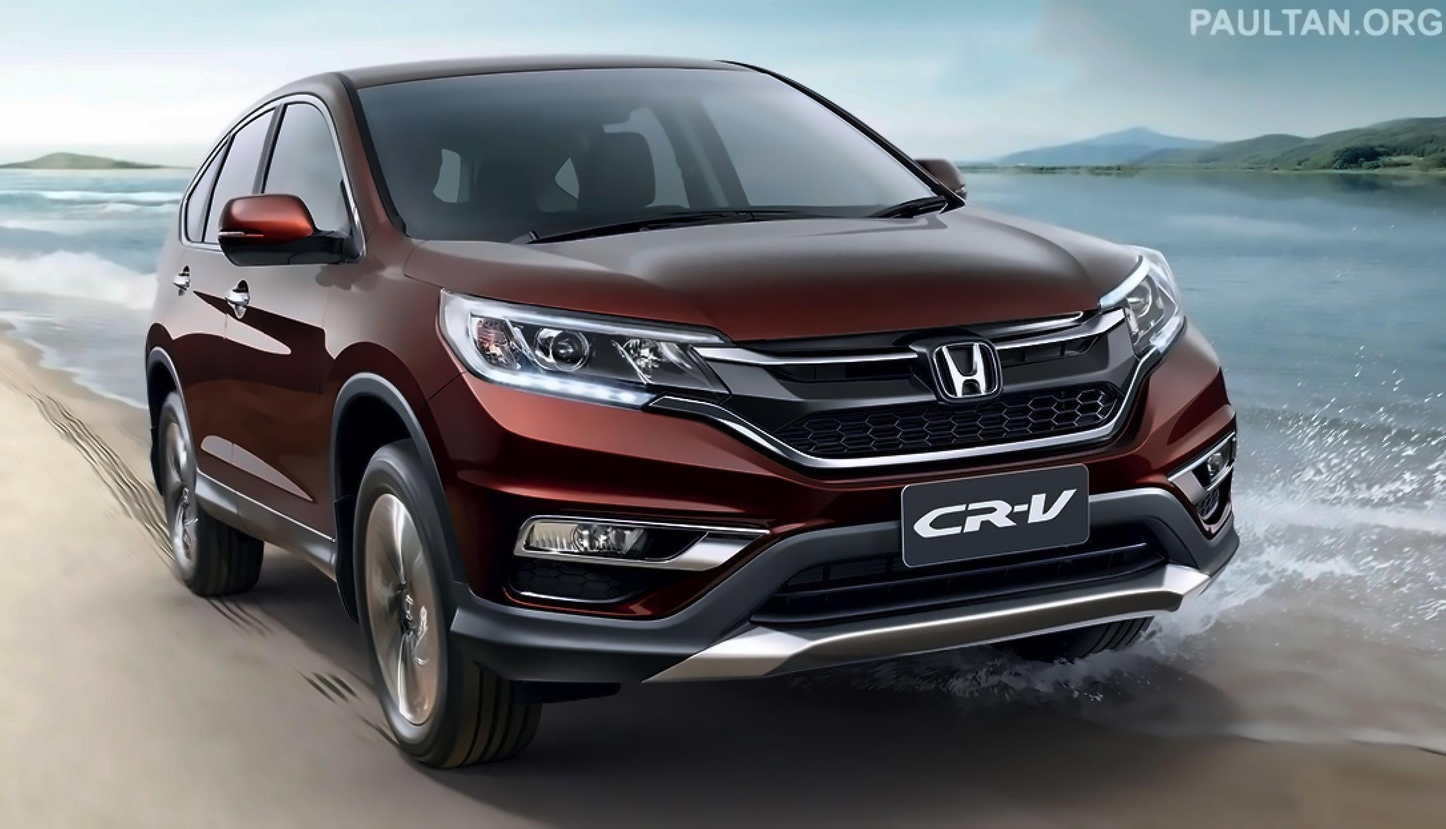Car hood: (392, 197, 1144, 343)
Driver-s door - -F-R-: (201, 64, 377, 585)
Fender - -F-R-: (319, 221, 471, 476)
Front bumper: (416, 337, 1250, 709)
Headlight - -L-: (1091, 247, 1194, 367)
Headlight - -R-: (432, 280, 739, 418)
Passenger-s door - -R-R-: (152, 65, 283, 581)
Side bumper - -R-: (176, 449, 355, 599)
Side mirror - -L-: (919, 155, 974, 207)
Side mirror - -R-: (216, 191, 358, 273)
